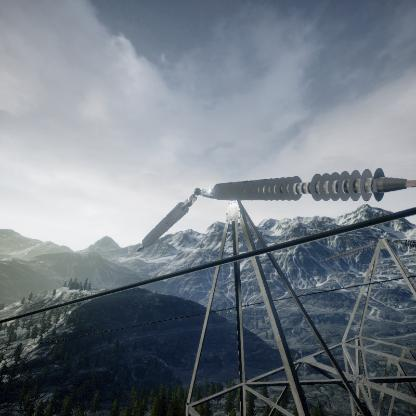insulator: (205, 167, 408, 202), (137, 199, 194, 251)
